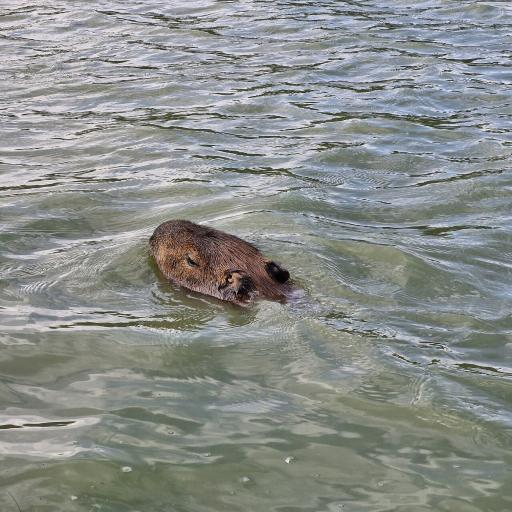capybara: (150, 220, 295, 305)
